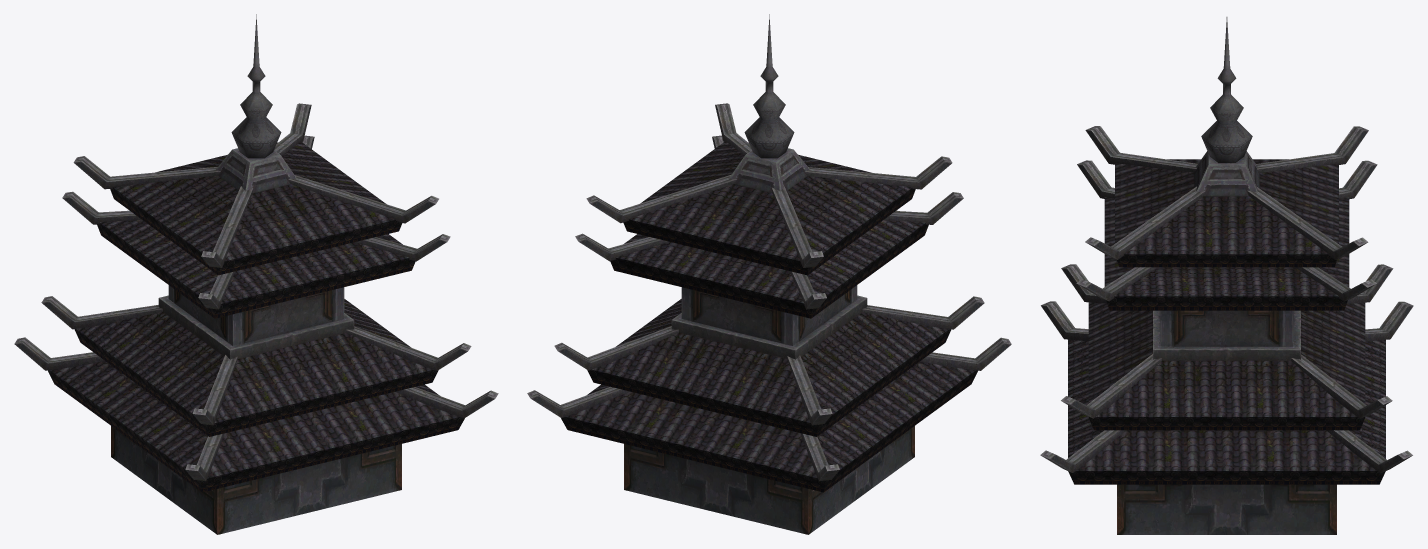
Rendered from environment_Building_yintiandalao_001_a.FBX.
3 views of the same model, side by side, from view 1: azimuth 30°, elevation 25°; view 2: azimuth 150°, elevation 25°; view 3: azimuth 270°, elevation 25° (orthographic). The views are drawn at different scales.
Visible parts, largest first — view 1: environment_Building_yintiandalao_001_a02, environment_Building_yintiandalao_001_a03, environment_Building_yintiandalao_001_a01; view 2: environment_Building_yintiandalao_001_a02, environment_Building_yintiandalao_001_a03, environment_Building_yintiandalao_001_a01; view 3: environment_Building_yintiandalao_001_a02, environment_Building_yintiandalao_001_a03, environment_Building_yintiandalao_001_a01.
Boxes of the visible parts, box(x1,y1,x2,y2) form: environment_Building_yintiandalao_001_a02: box(47, 142, 464, 492); environment_Building_yintiandalao_001_a03: box(111, 14, 401, 534); environment_Building_yintiandalao_001_a01: box(14, 103, 498, 480); environment_Building_yintiandalao_001_a02: box(561, 141, 977, 492); environment_Building_yintiandalao_001_a03: box(624, 14, 914, 534); environment_Building_yintiandalao_001_a01: box(527, 103, 1011, 481); environment_Building_yintiandalao_001_a02: box(1068, 159, 1385, 484); environment_Building_yintiandalao_001_a03: box(1117, 17, 1336, 534); environment_Building_yintiandalao_001_a01: box(1040, 126, 1413, 473).
Bounding box in the file's own units: 865 × 865 × 1212.
3 materials, 3 textured.
